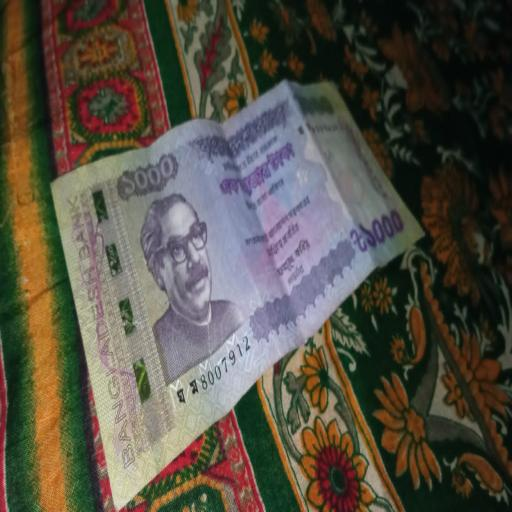1000taka: (52, 70, 426, 497)
